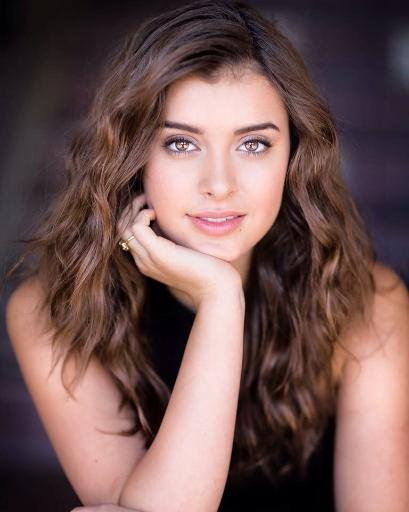left_eye: (237, 137, 275, 158)
left_lip_corner: (241, 210, 251, 222)
right_eye: (165, 137, 202, 157)
right_lip_corner: (184, 210, 195, 222)
